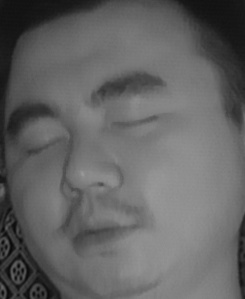blink: (107, 101, 159, 141), (22, 127, 64, 161)
mouth: (60, 200, 142, 253)
